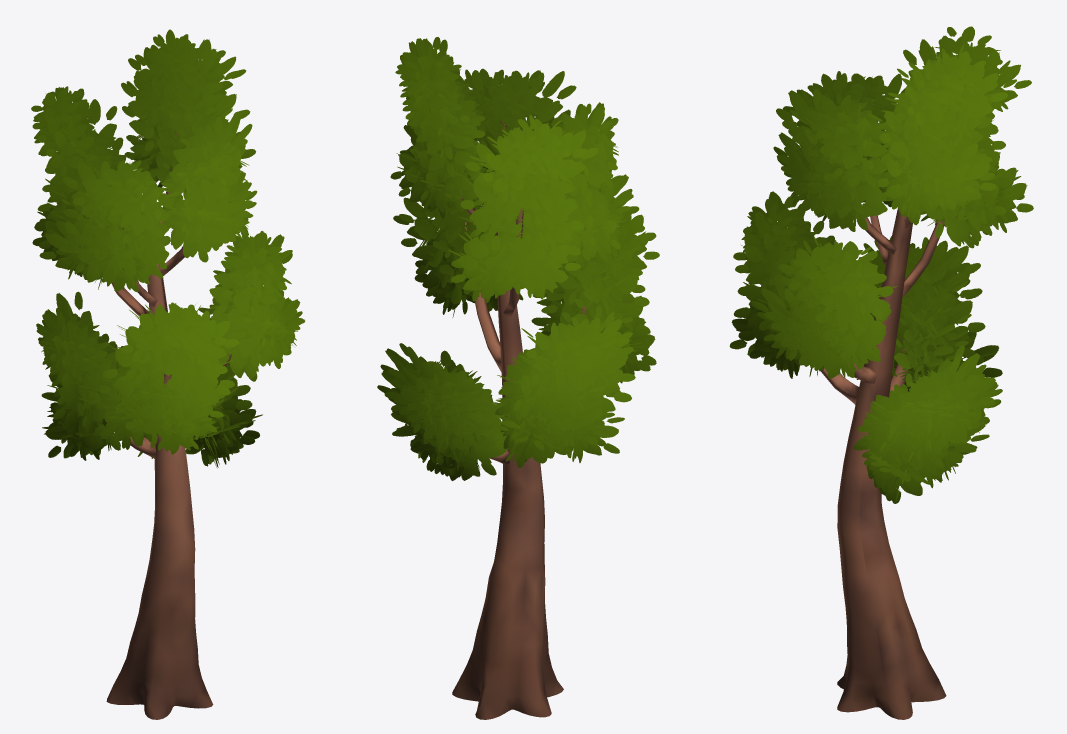
The model's file is laubbaum_a.glb.
3 views of the same model, side by side, from view 1: azimuth 30°, elevation 25°; view 2: azimuth 150°, elevation 25°; view 3: azimuth 270°, elevation 25° (orthographic). The views are drawn at different scales.
Parts seen in each view (by area): view 1: baum; view 2: baum; view 3: baum.
Boxes of the visible parts, <box> form: baum: <box>31,29,305,719</box>; baum: <box>377,37,659,719</box>; baum: <box>729,26,1033,719</box>.
Size of the model in its own units: 4.06 by 9.43 by 4.24.
2 materials, 1 textured.
